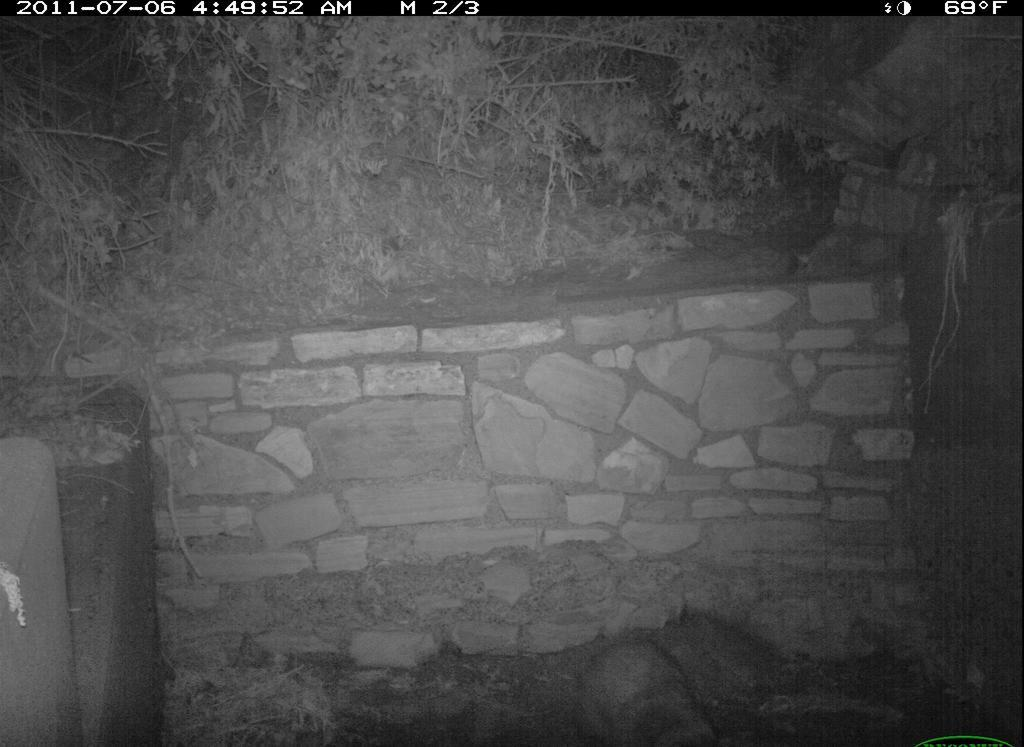raccoon: (575, 638, 728, 747)
